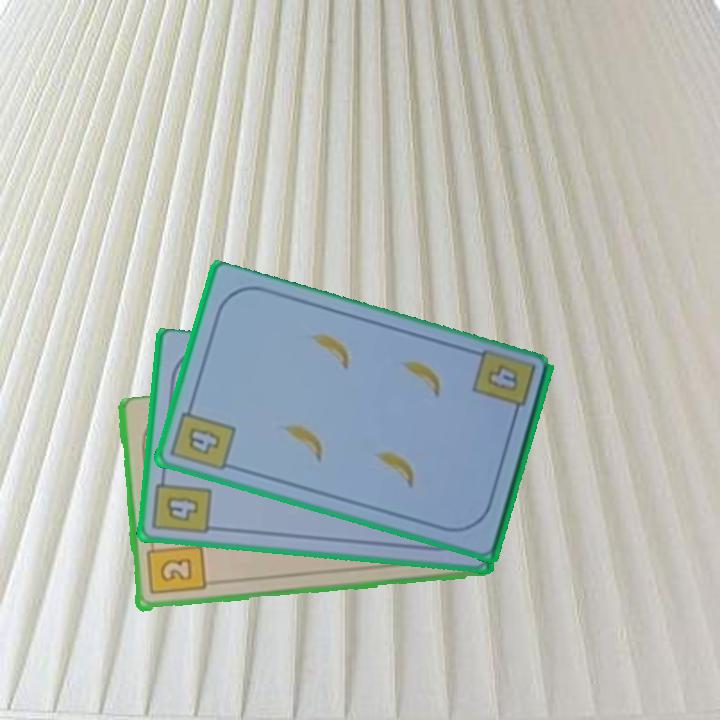2b: (142, 537, 207, 598)
4b: (167, 399, 239, 474), (149, 470, 214, 538), (483, 361, 521, 396)
